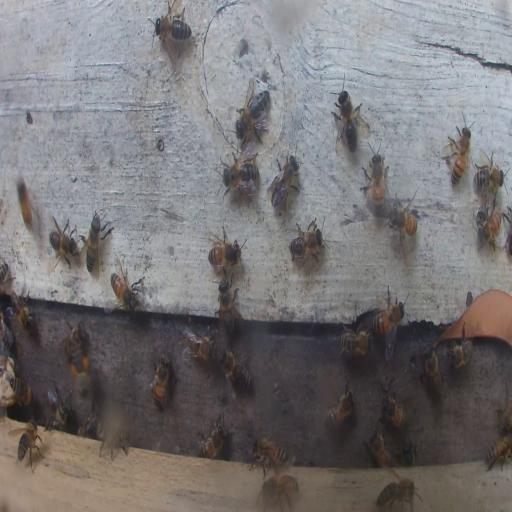bee: (333, 80, 365, 152), (235, 83, 270, 147), (267, 152, 302, 210), (152, 2, 192, 50), (447, 116, 472, 188), (207, 227, 245, 274), (362, 146, 388, 214), (84, 208, 110, 276), (385, 196, 419, 247), (289, 216, 325, 264), (371, 290, 405, 340), (48, 214, 80, 267), (472, 149, 505, 197), (15, 418, 43, 473), (376, 477, 419, 511), (324, 384, 355, 431), (110, 269, 143, 313), (249, 436, 289, 472), (222, 152, 258, 190), (182, 325, 216, 363), (220, 348, 250, 390), (70, 339, 91, 399), (46, 380, 71, 429), (147, 355, 170, 408), (217, 279, 240, 332), (196, 420, 226, 460), (366, 426, 394, 468), (381, 387, 407, 432), (17, 176, 37, 233), (422, 347, 443, 400), (262, 475, 299, 505), (8, 290, 34, 332), (484, 436, 512, 472), (446, 332, 474, 368), (339, 330, 372, 358), (476, 208, 503, 242), (64, 320, 86, 359), (98, 431, 130, 456), (6, 373, 31, 402), (496, 388, 510, 435), (0, 309, 16, 350), (76, 411, 99, 436), (403, 440, 417, 467), (0, 261, 10, 291)
